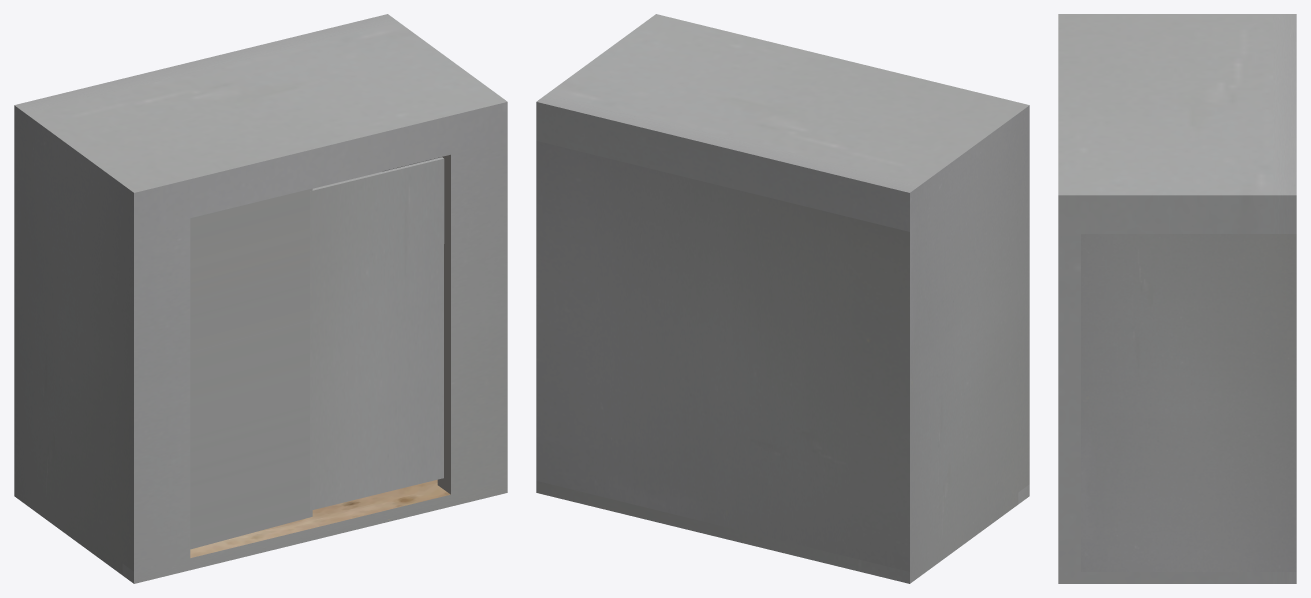
File: elevator.fbx
The picture shows the model from 3 angles, left to right: view 1: azimuth 30°, elevation 25°; view 2: azimuth 150°, elevation 25°; view 3: azimuth 270°, elevation 25°; orthographic projection.
Visible parts, largest first — view 1: moveable_door, Cube.002; view 2: moveable_door; view 3: moveable_door.
Part boxes in pixels (x1=…): moveable_door: x1=14, y1=14, x2=507, y2=583; Cube.002: x1=310, y1=157, x2=444, y2=510; moveable_door: x1=536, y1=14, x2=1029, y2=583; moveable_door: x1=1058, y1=14, x2=1296, y2=583.
Size of the model in its own units: 200 by 200 by 111.
